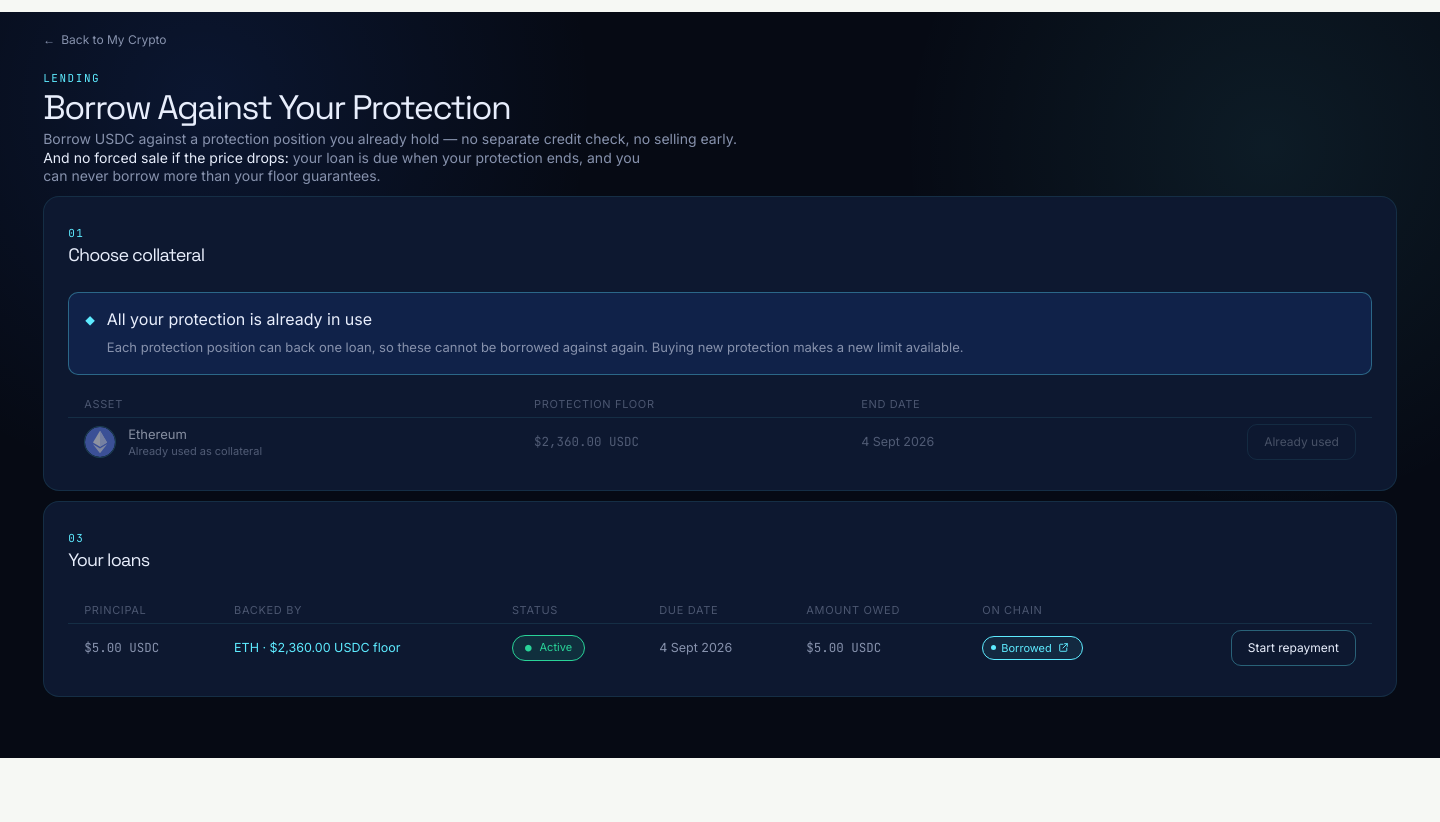
it: LendingPage › shows which specific check failed on REPAYMENT_UNVERIFIED
The image size is (1440, 822).
Click the button "Start repayment": (1293, 648) [1231,630,1356,666]
(page scrolled)
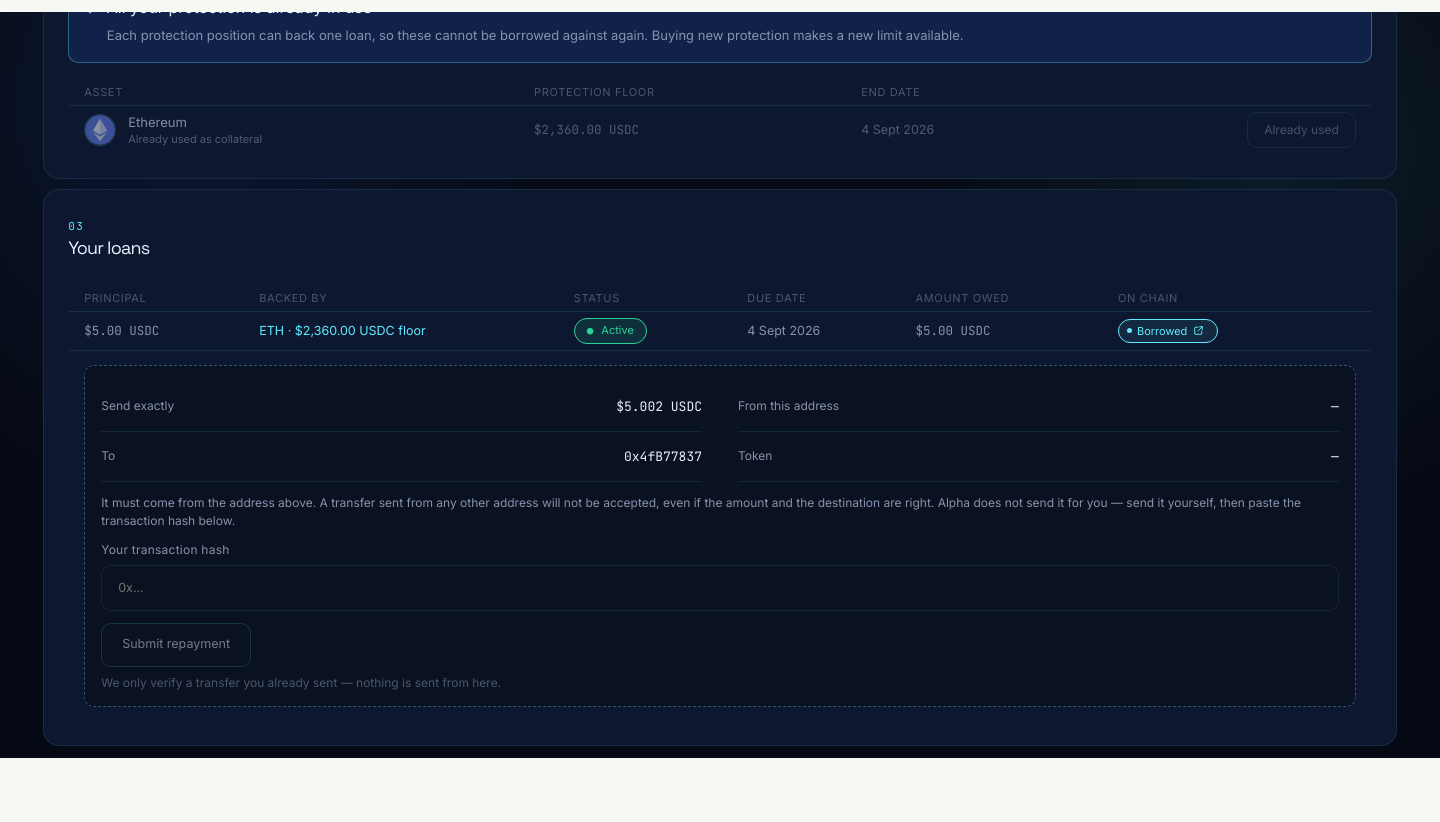
In the field labelled "Your transaction hash": (720, 588) [101,564,1339,610], type "0xwrong"
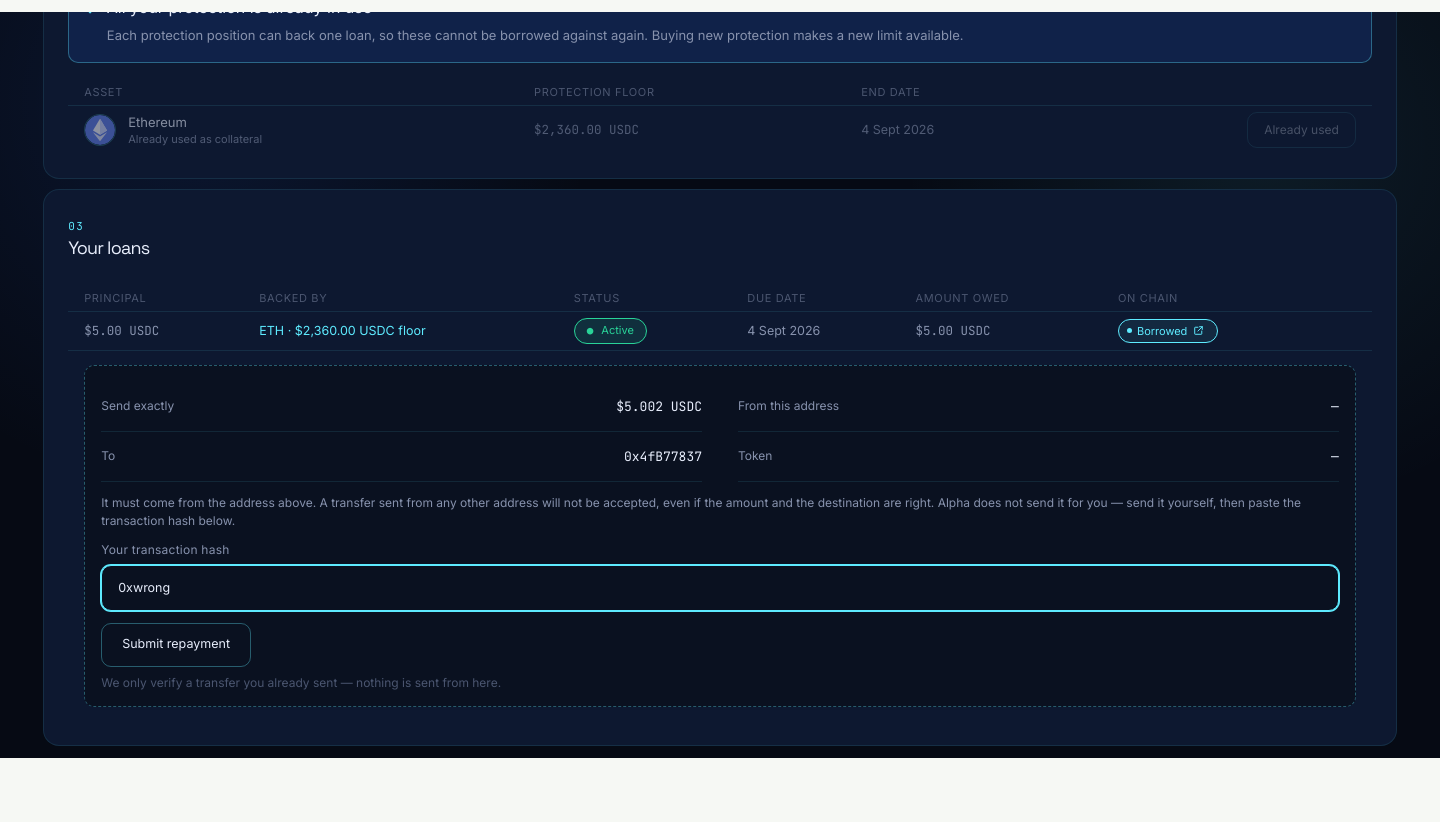
Click the button "Submit repayment": (176, 644) [101,622,251,666]
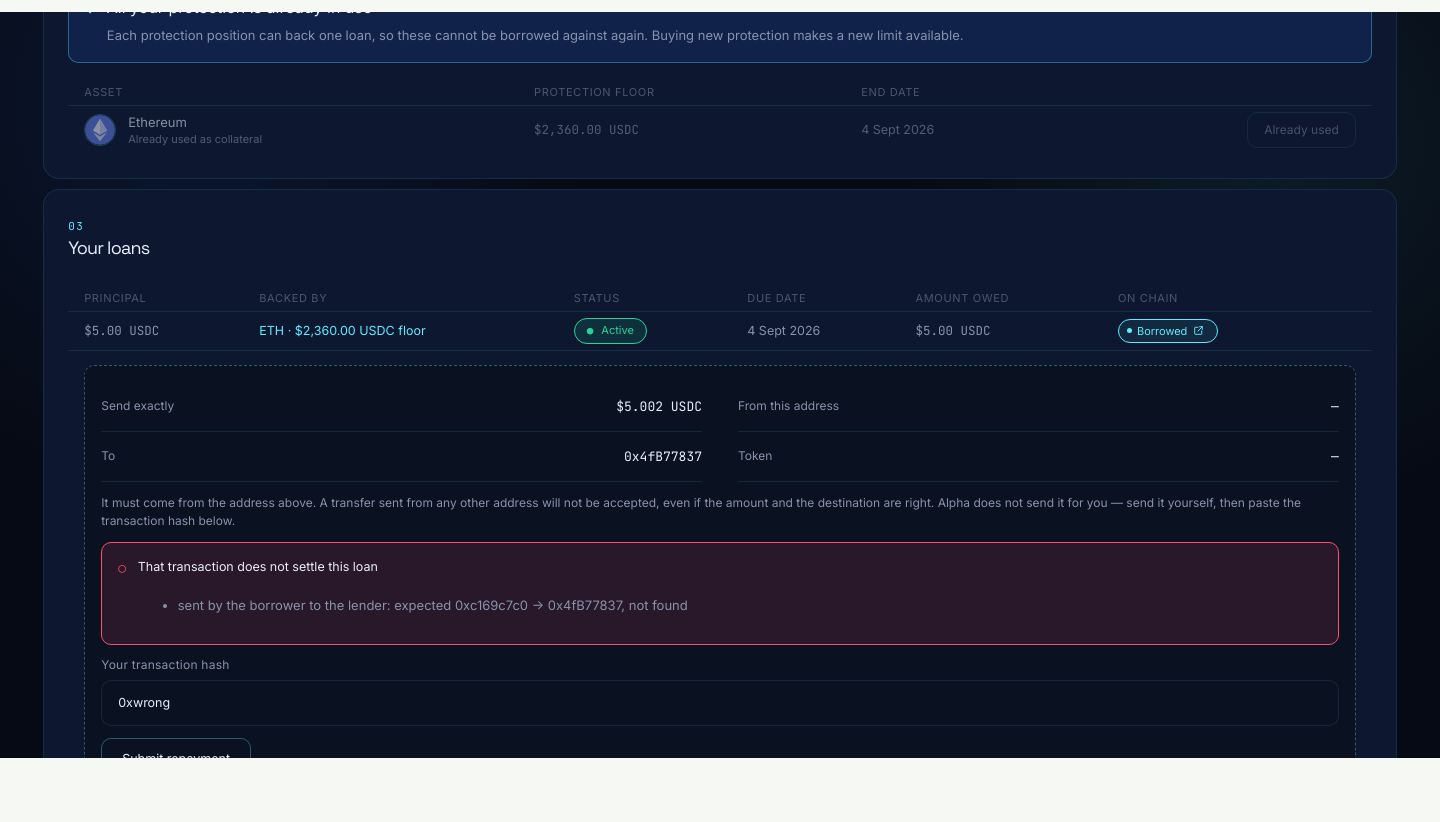
Expected: the list item "sent by the borrower to the lender" is shown, [178,596,387,612]
Expected: the list item "expected 0xc169c7c0 -> 0x4fB77837, not found" is shown, [394,596,688,612]
